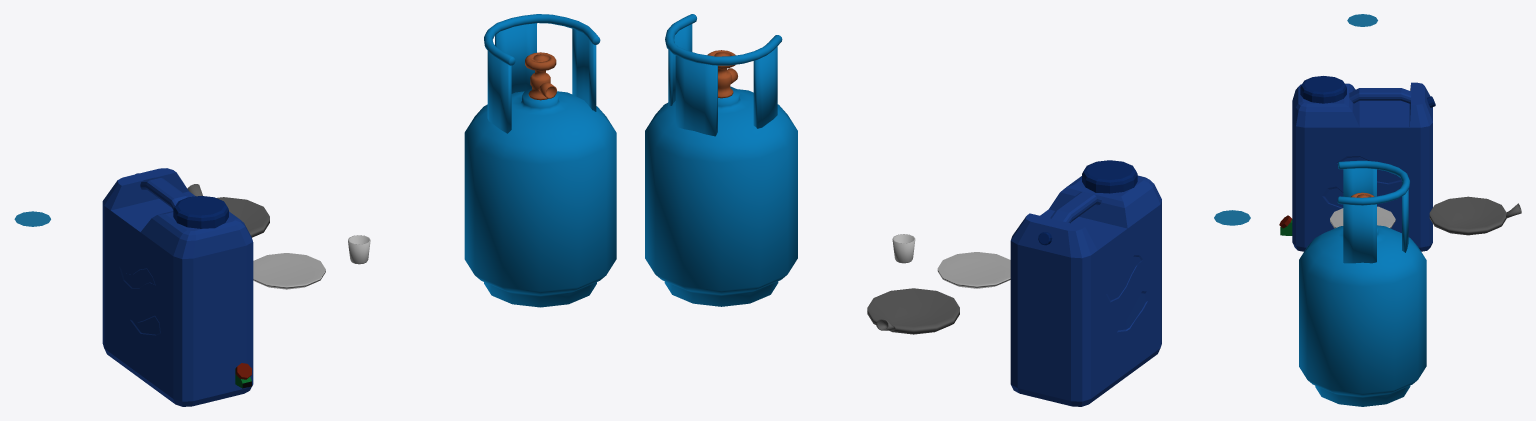
Rendered from Gasul_Props.glb.
3 views of the same model, side by side, from view 1: azimuth 30°, elevation 25°; view 2: azimuth 150°, elevation 25°; view 3: azimuth 270°, elevation 25° (orthographic). The views are drawn at different scales.
Parts seen in each view (by area): view 1: GASUL, WaterGalon, Cylinder, Cylinder.002, Cylinder.001; view 2: GASUL, WaterGalon, Cylinder.002, Cylinder, Cylinder.001; view 3: GASUL, WaterGalon, Cylinder.002, Cylinder, GASUL.001.
Part boxes in pixels (x1,y1,x2,y2): GASUL: (464, 14, 616, 307); WaterGalon: (102, 168, 253, 406); Cylinder: (253, 253, 325, 289); Cylinder.002: (187, 184, 269, 237); Cylinder.001: (348, 235, 370, 264); GASUL: (645, 14, 797, 306); WaterGalon: (1010, 160, 1161, 406); Cylinder.002: (867, 288, 959, 334); Cylinder: (937, 252, 1010, 288); Cylinder.001: (892, 234, 915, 263); GASUL: (1299, 160, 1426, 406); WaterGalon: (1279, 76, 1435, 251); Cylinder.002: (1429, 196, 1521, 235); Cylinder: (1330, 206, 1395, 228); GASUL.001: (1347, 14, 1377, 26).
Bounding box in the file's own units: 8.13 × 3.27 × 3.45.
3 materials, 1 textured.
